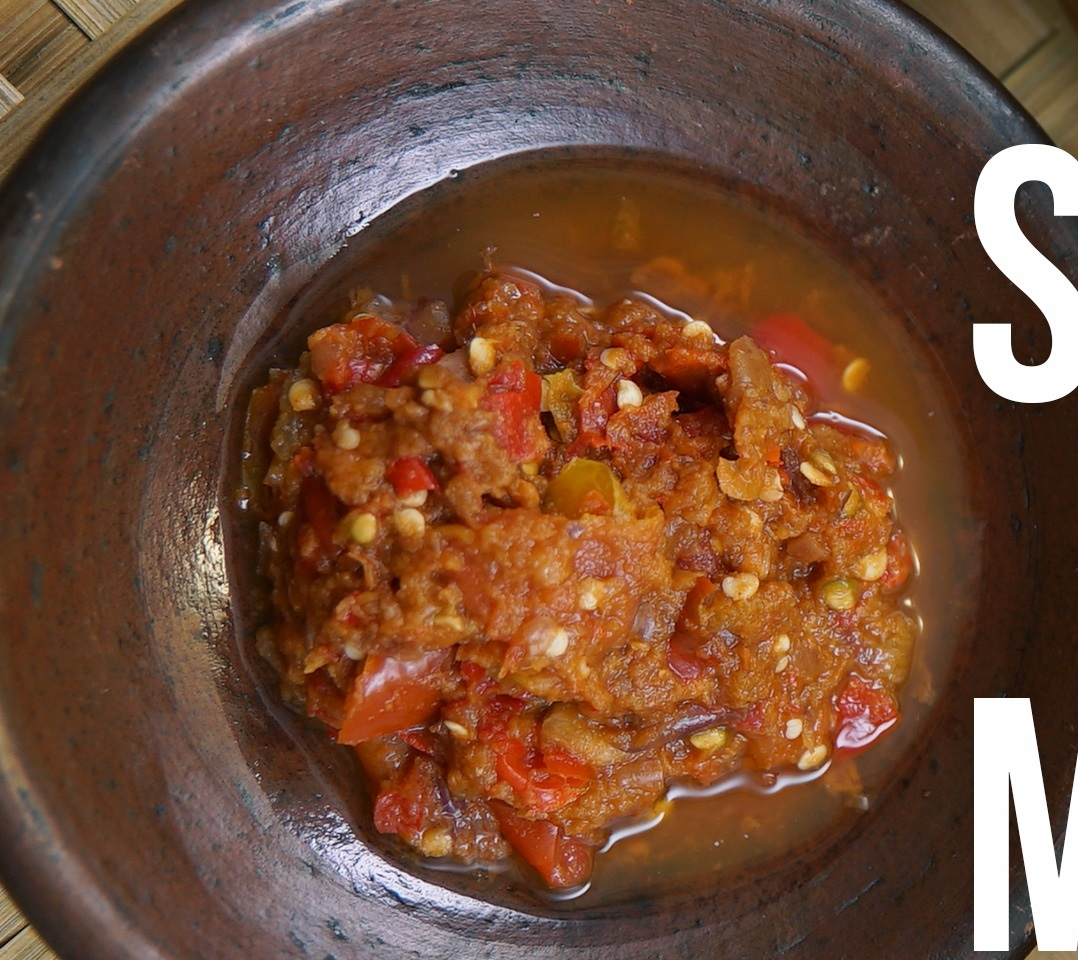sambal: (229, 254, 918, 889)
